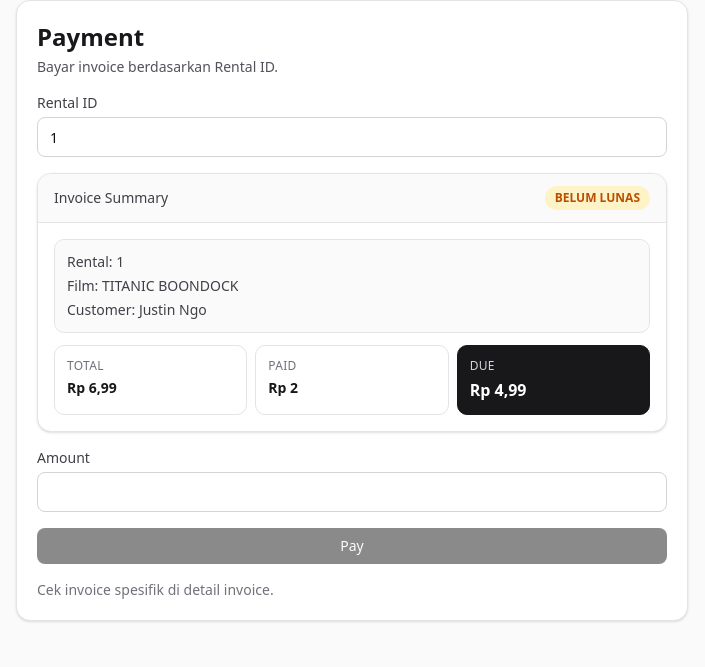
Test case: Payments page › submits payment and shows remaining due for partial payment
Type "2" into the number field labelled "Amount" at (352, 492), box left=37, top=472, right=667, bottom=512
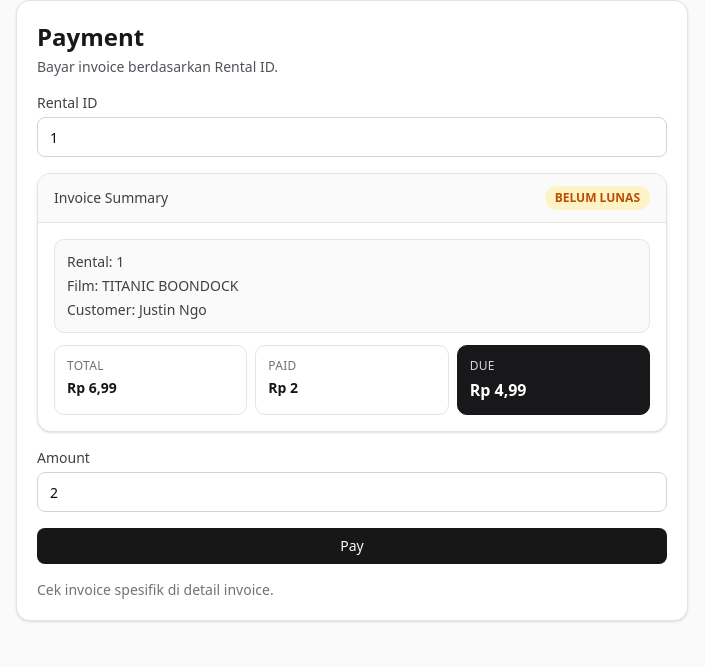
Click the button "Pay" at (352, 546), box left=37, top=528, right=667, bottom=564
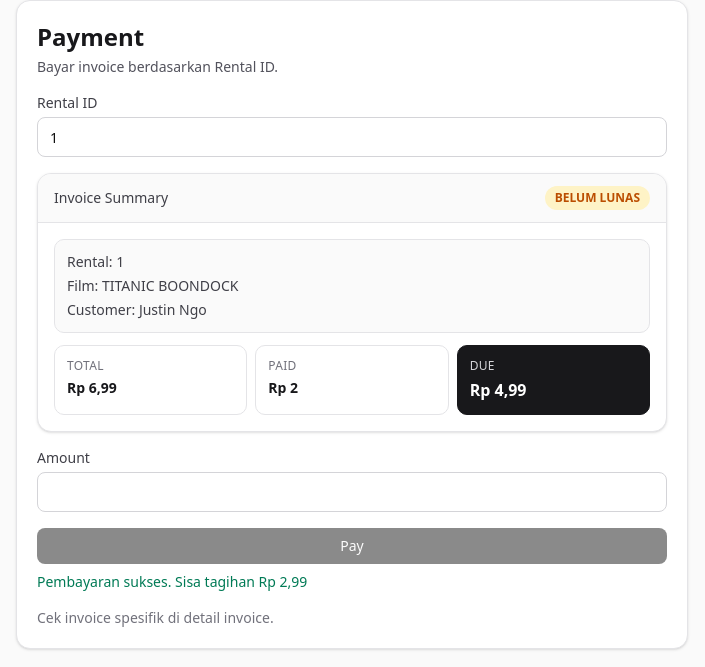
Result: the text "Pembayaran sukses. Sisa tagihan Rp 2,99" is shown at left=37, top=572, right=307, bottom=591
Result: the number field labelled "Amount" is empty at left=37, top=472, right=667, bottom=512
